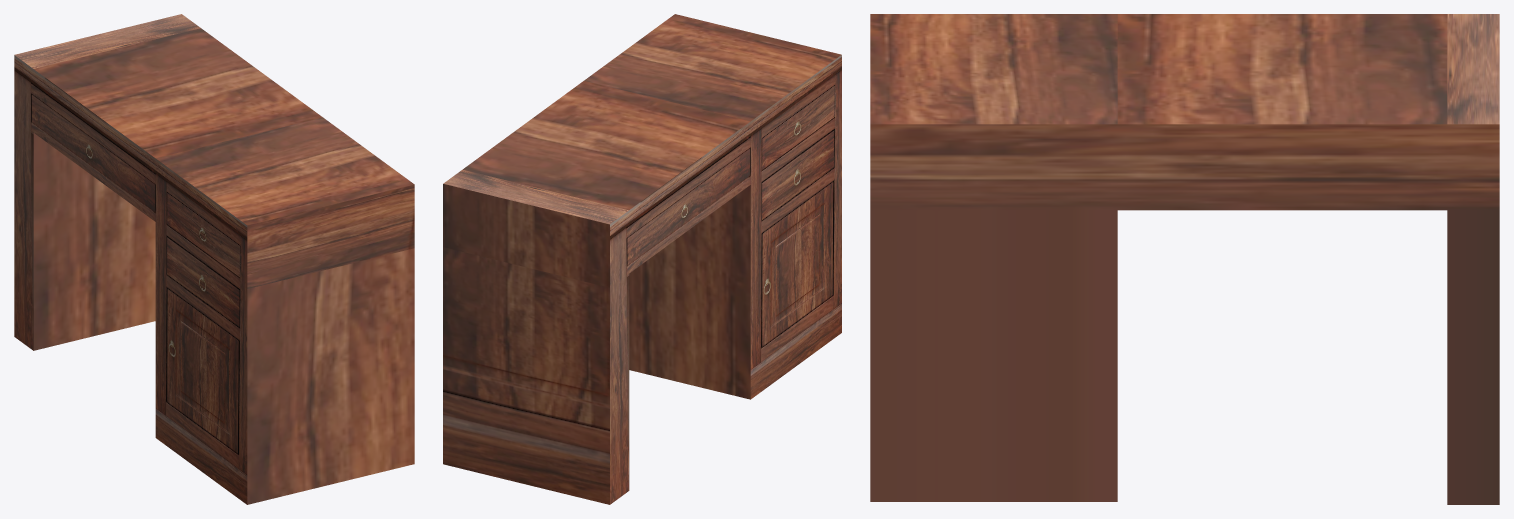
The model's file is Table.fbx.
3 views of the same model, side by side, from view 1: azimuth 30°, elevation 25°; view 2: azimuth 150°, elevation 25°; view 3: azimuth 270°, elevation 25° (orthographic). The views are drawn at different scales.
Parts seen in each view (by area): view 1: Cube; view 2: Cube; view 3: Cube.
Boxes of the visible parts, x1,y1,x2,y2 form: Cube: (14,14,414,504); Cube: (443,14,841,504); Cube: (870,14,1499,504).
Bounding box in the file's own units: 482 × 200 × 321.
